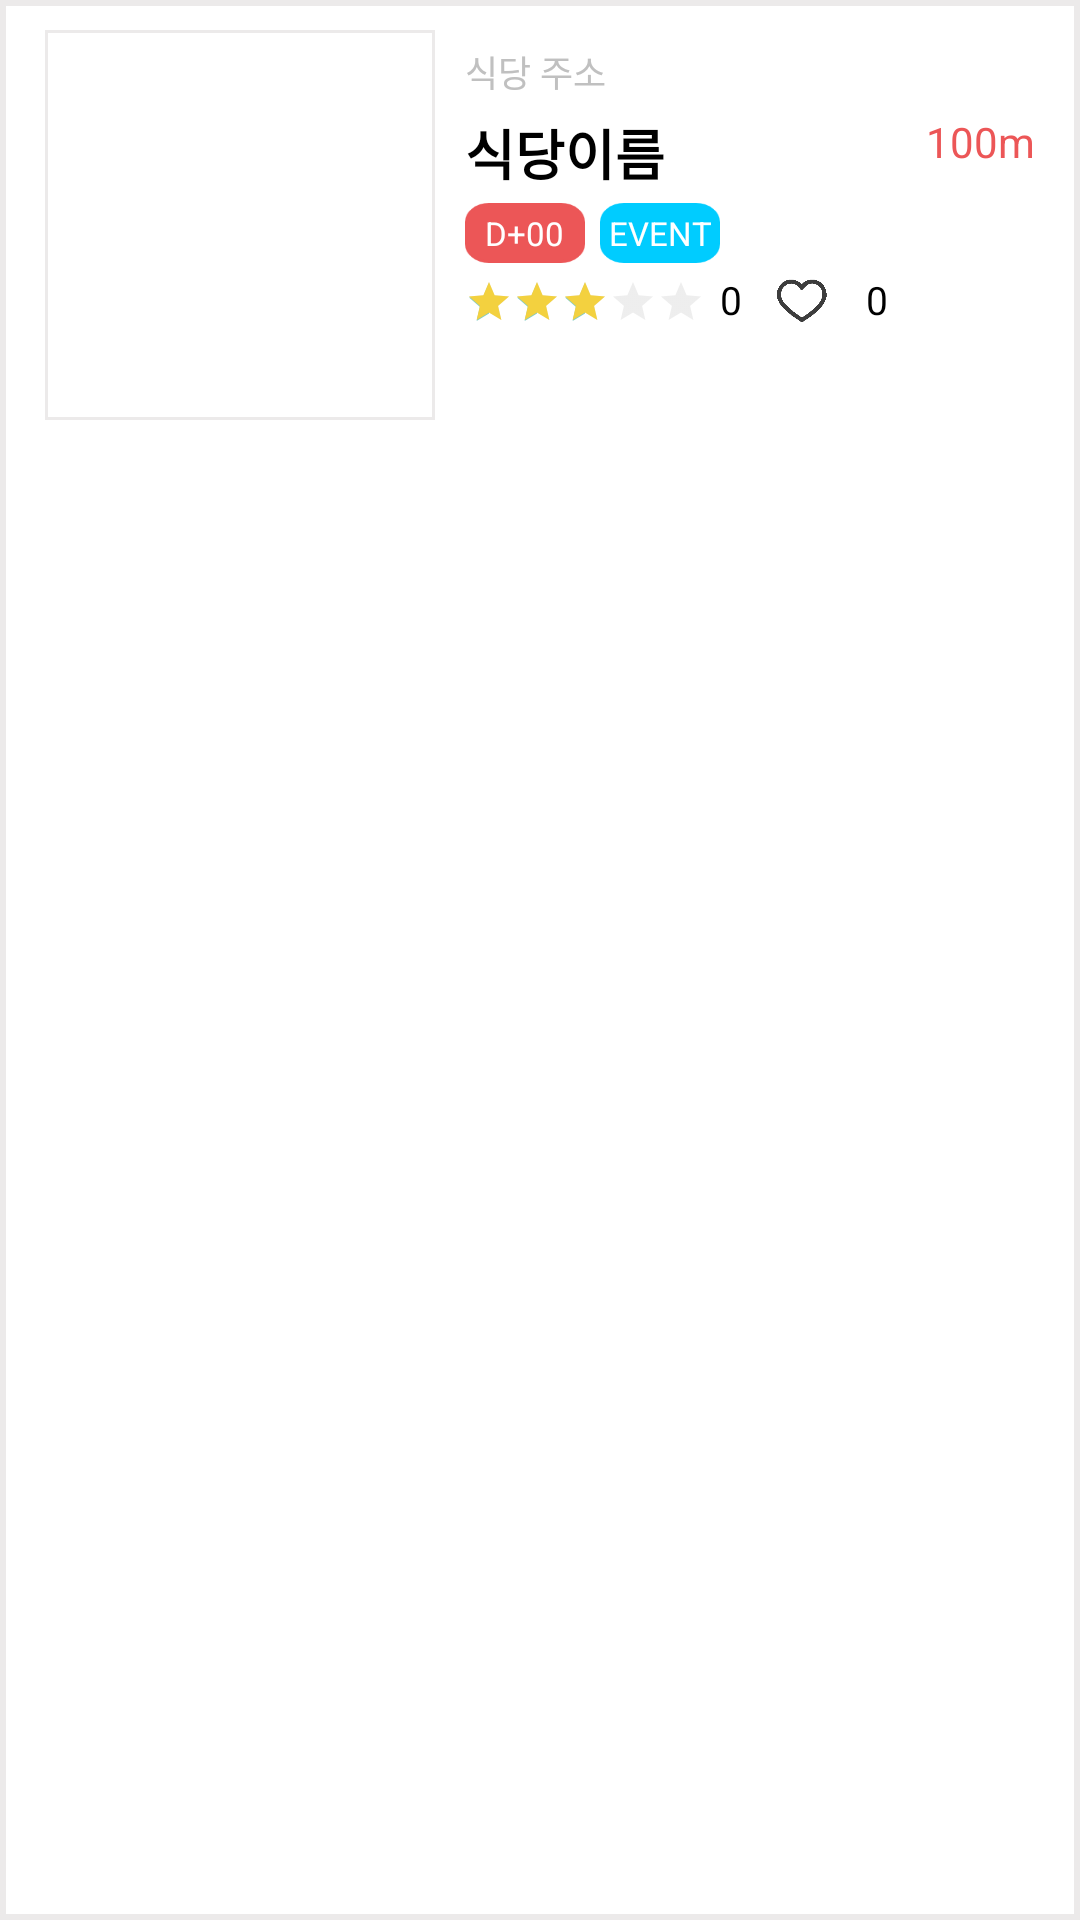

Point at icon controls on the screen. Image size 1080px x 1920px, points as (x,y).
heart states: (802,301)
